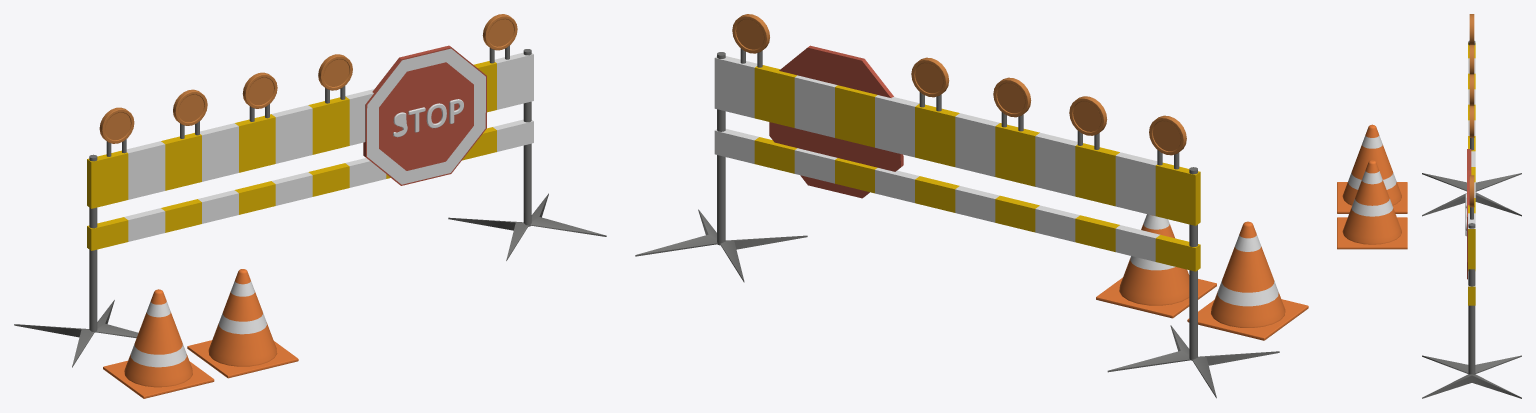
File: traffic_Board.fbx
The picture shows the model from 3 angles, left to right: view 1: azimuth 30°, elevation 25°; view 2: azimuth 150°, elevation 25°; view 3: azimuth 270°, elevation 25°; orthographic projection. The views are drawn at different scales.
Visible parts, largest first — view 1: pCube6, pCylinder4, pCube8, pCone1 (×2), pCube1 (×2), pCube4, pCube7, typeMesh1, pCylinder7, pCylinder11, pCylinder10, pCylinder17 (+3 smaller); view 2: pCube6, pCube8, pCone1 (×2), pCylinder4, pCube1 (×2), pCube7, pCube4, pCylinder14, pCylinder7, pCylinder11, pCylinder17, pCylinder10 (+2 smaller); view 3: pCone1 (×2), pCube1 (×2), pCube4, pCube7, pCube6, pCylinder2, pCylinder4, pCylinder17, pCube8, pCylinder10, pCylinder11, pCylinder7 (+1 smaller).
Boxes of the visible parts, <box> form: pCube6: <box>87,52,533,208</box>; pCylinder4: <box>363,45,486,185</box>; pCube8: <box>87,119,533,250</box>; pCone1 (×2): <box>124,269,277,387</box>; pCube1 (×2): <box>103,340,298,398</box>; pCube4: <box>448,193,606,260</box>; pCube7: <box>14,300,138,367</box>; typeMesh1: <box>393,99,463,137</box>; pCylinder7: <box>99,107,134,143</box>; pCylinder11: <box>318,54,352,90</box>; pCylinder10: <box>242,72,277,108</box>; pCylinder17: <box>482,14,517,50</box>; pCube6: <box>714,56,1200,225</box>; pCube8: <box>714,129,1200,271</box>; pCone1 (×2): <box>1119,214,1285,327</box>; pCylinder4: <box>769,45,903,198</box>; pCube1 (×2): <box>1096,277,1308,340</box>; pCube7: <box>1107,325,1279,398</box>; pCube4: <box>635,209,807,282</box>; pCylinder14: <box>1069,96,1107,135</box>; pCylinder7: <box>1149,115,1186,155</box>; pCylinder11: <box>911,57,949,97</box>; pCylinder17: <box>732,14,769,53</box>; pCylinder10: <box>993,77,1031,117</box>; pCone1 (×2): <box>1342,124,1401,244</box>; pCube1 (×2): <box>1337,182,1407,249</box>; pCube4: <box>1422,355,1521,398</box>; pCube7: <box>1422,173,1521,216</box>; pCube6: <box>1468,43,1475,269</box>; pCylinder2: <box>1468,223,1475,374</box>; pCylinder4: <box>1467,149,1471,279</box>; pCylinder17: <box>1469,175,1474,207</box>; pCube8: <box>1468,269,1475,305</box>; pCylinder10: <box>1469,74,1474,105</box>; pCylinder11: <box>1469,106,1474,137</box>; pCylinder7: <box>1469,14,1474,44</box>.
Size of the model in its own units: 14.64 by 5.79 by 5.08.
